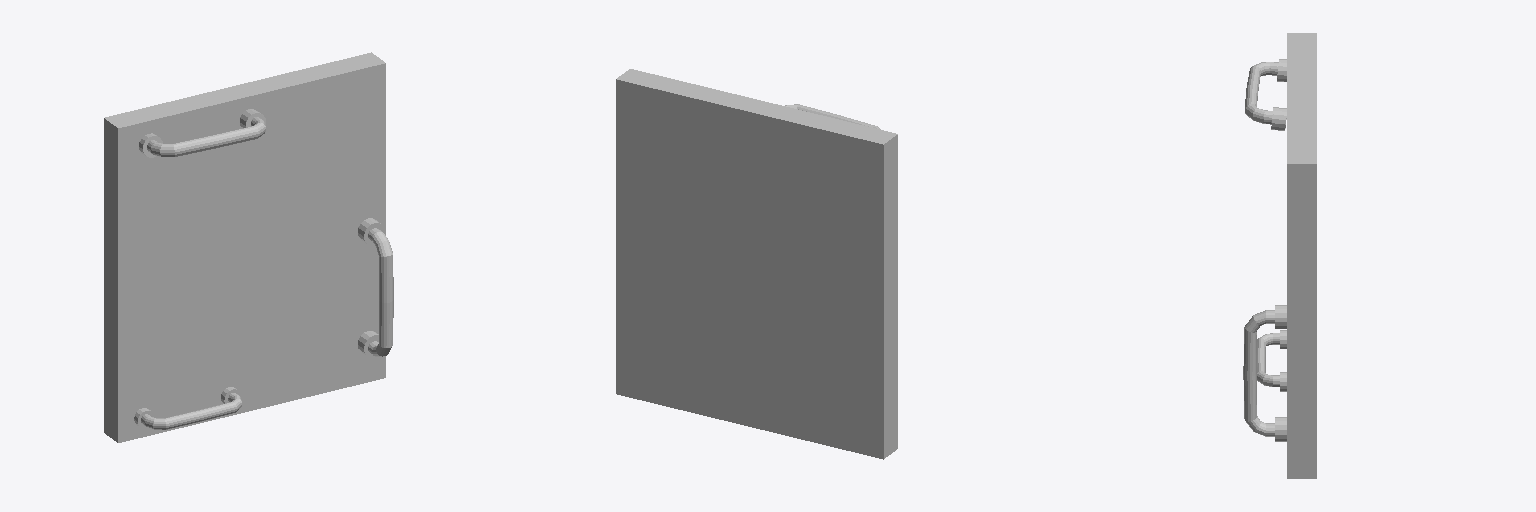
The model's file is Holy_Wall.obj.
The picture shows the model from 3 angles: view 1: azimuth 30°, elevation 25°; view 2: azimuth 150°, elevation 25°; view 3: azimuth 270°, elevation 25°; orthographic projection.
Parts seen in each view (by area): view 1: Sphere.015_Sphere.016; view 2: Sphere.015_Sphere.016; view 3: Sphere.015_Sphere.016.
Part boxes in pixels (x1,y1,x2,y2): Sphere.015_Sphere.016: (104,52,393,442); Sphere.015_Sphere.016: (616,69,897,459); Sphere.015_Sphere.016: (1243,33,1316,478).
Size of the model in its own units: 95.68 by 107 by 22.68.